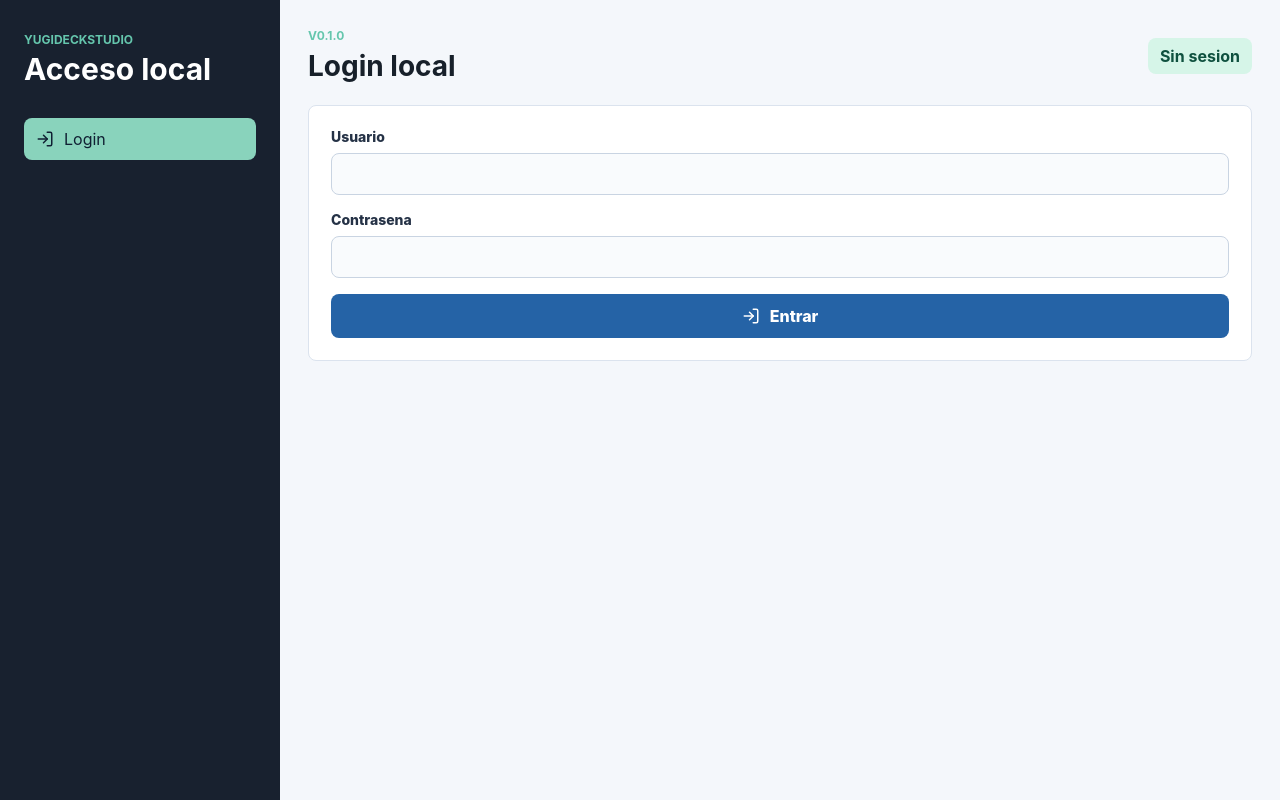
App › returns to anonymous navigation after logout
Type "root" into the field labelled "Usuario" at (780, 174), box [331,153,1229,195]
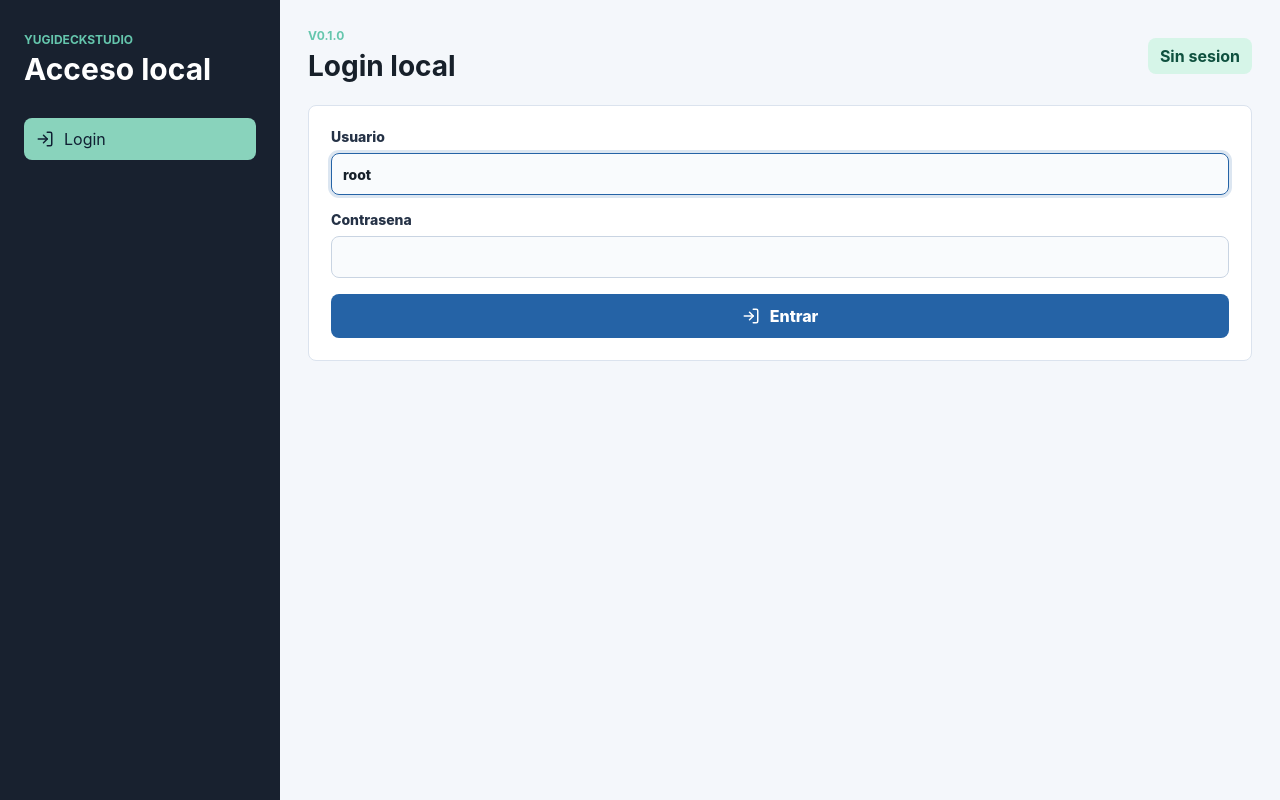
Type "ChangedPassword123!" into the password field labelled "Contrasena" at (780, 257), box [331,236,1229,278]
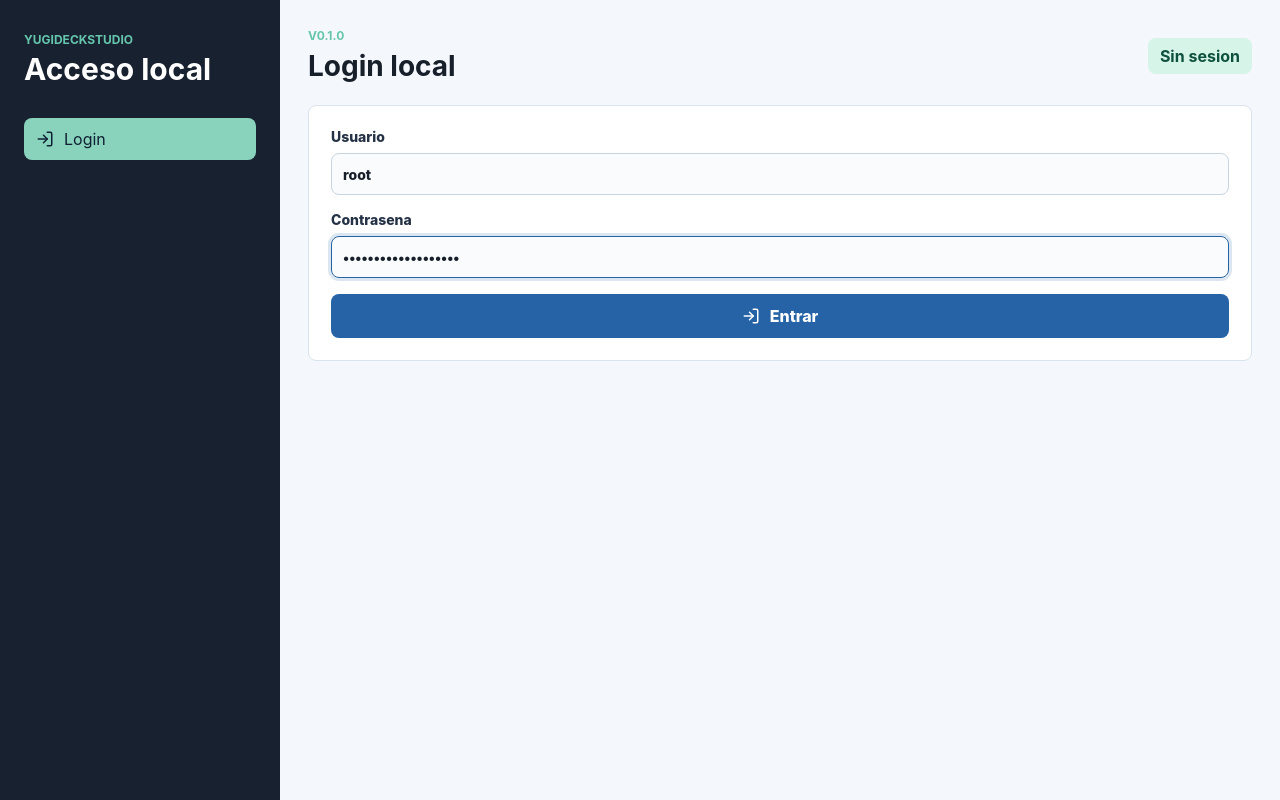
Click the button "Entrar" at (780, 316), box [331,294,1229,338]
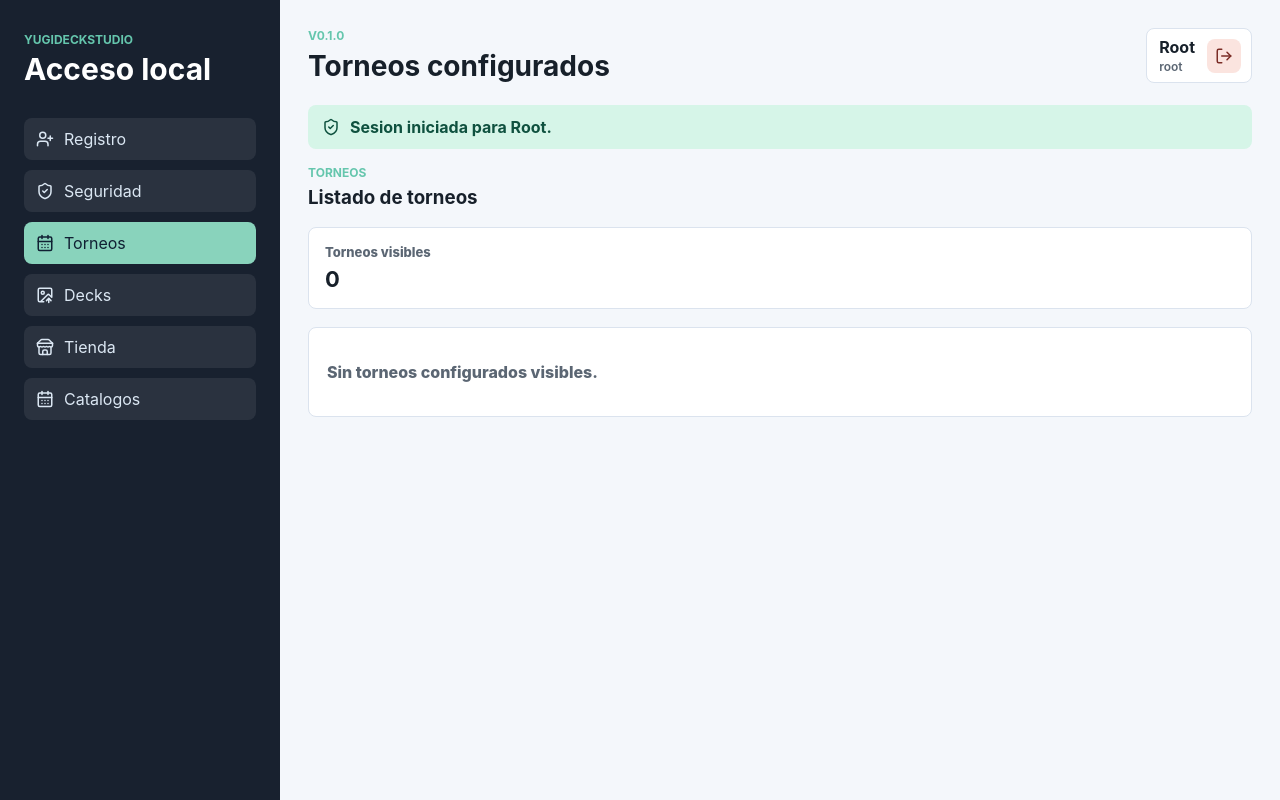
Check: the button "Registro" is shown, box [24,118,256,160]
Click the button named "cerrar sesion" at (1224, 56), box [1207,38,1241,72]
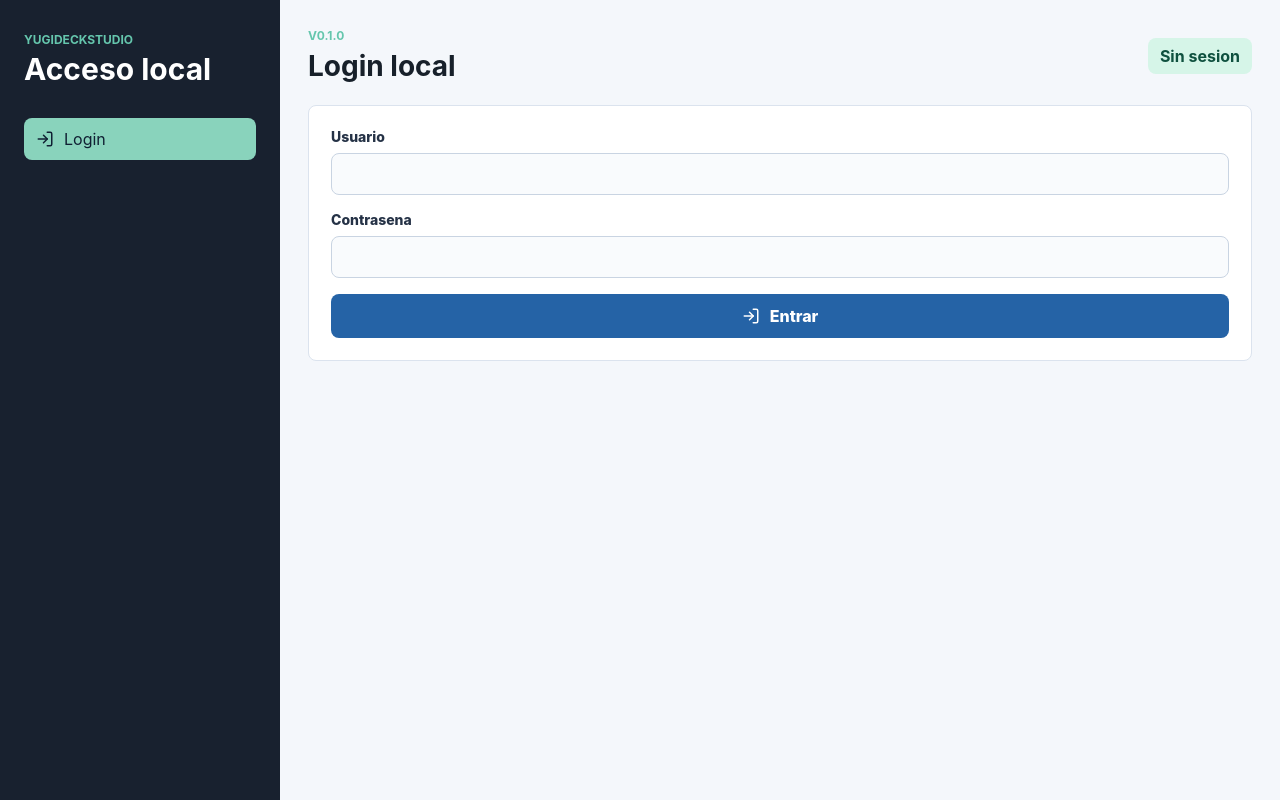
Check: the heading "Login local" is shown, box [308,49,456,83]
Check: the button "Login" is shown, box [24,118,256,160]
Check: the button "Registro" is gone
